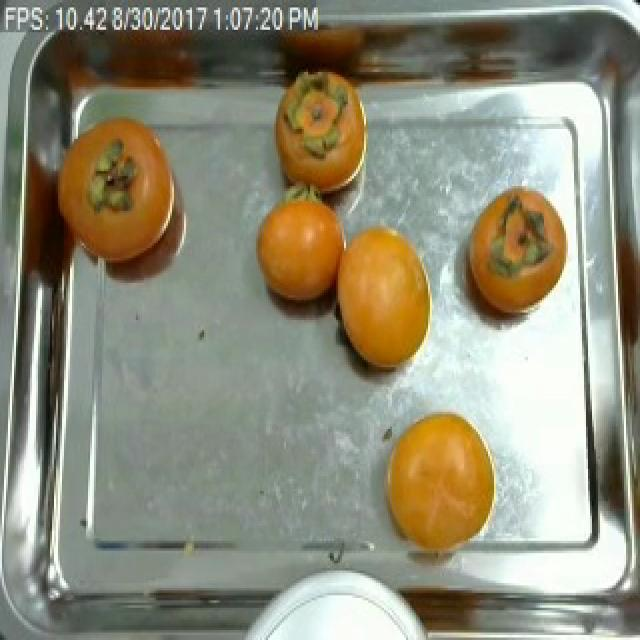Fruit: (48, 97, 192, 290), (368, 397, 512, 578), (322, 208, 446, 382), (260, 54, 386, 214), (452, 176, 570, 337), (244, 181, 352, 328)
